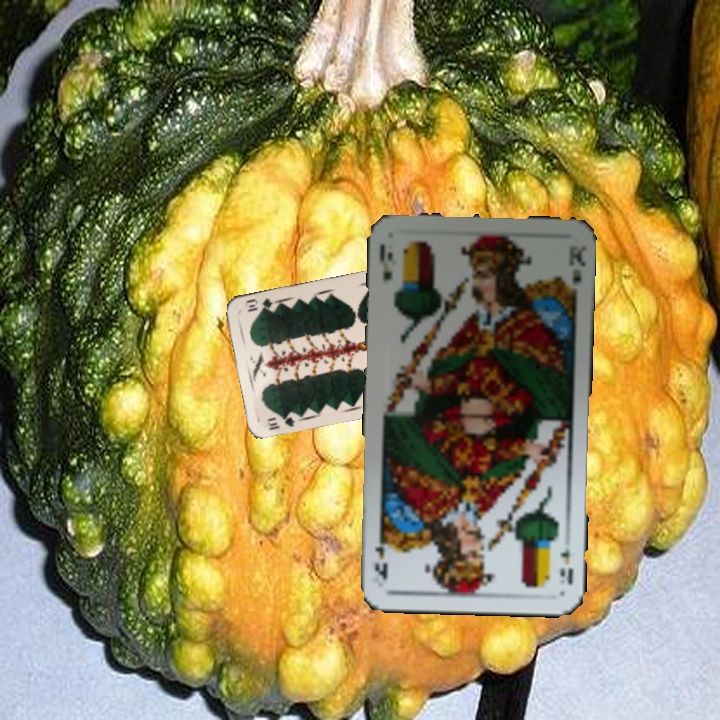EK: (375, 241, 396, 284), (555, 544, 576, 586)
G10: (263, 409, 301, 433)
